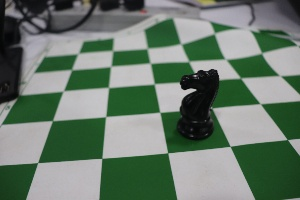black_horse: (163, 50, 221, 148)
